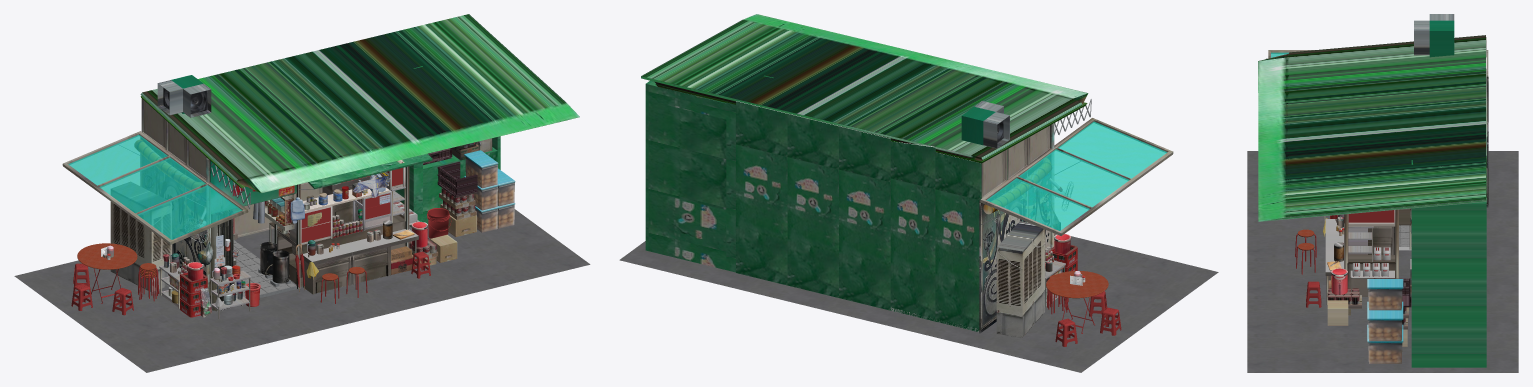
Rendered from hong_kong_food_stall.glb.
The picture shows the model from 3 angles, left to right: view 1: azimuth 30°, elevation 25°; view 2: azimuth 150°, elevation 25°; view 3: azimuth 270°, elevation 25°; orthographic projection. The views are drawn at different scales.
Visible parts, largest first — view 1: _3DGeom715, _3DGeom1, _3DGeom337, _3DGeom551, _3DGeom465, _3DGeom336, _3DGeom137 (×4), _3DGeom718, _3DGeom410, _3DGeom408, _3DGeom321, _3DGeom164 (×2) (+21 smaller); view 2: _3DGeom3 (×5), _3DGeom715, _3DGeom1, _3DGeom718, _3DGeom337, _3DGeom551, _3DGeom465, _3DGeom336, _3DGeom153, _3DGeom149, _3DGeom157, _3DGeom163 (+7 smaller); view 3: _3DGeom715, _3DGeom1, _3DGeom718, _3DGeom137 (×3), _3DGeom756, _3DGeom492, _3DGeom757, _3DGeom547, _3DGeom419, _3DGeom439, _3DGeom418, _3DGeom90 (+10 smaller).
Boxes of the visible parts, left/top/right/bottom form: _3DGeom715: left=140, top=14, right=579, bottom=193; _3DGeom1: left=14, top=209, right=590, bottom=372; _3DGeom337: left=68, top=135, right=242, bottom=239; _3DGeom551: left=110, top=182, right=171, bottom=291; _3DGeom465: left=140, top=137, right=210, bottom=302; _3DGeom336: left=62, top=131, right=248, bottom=244; _3DGeom137 (×4): left=464, top=150, right=515, bottom=232; _3DGeom718: left=395, top=66, right=500, bottom=227; _3DGeom410: left=303, top=244, right=352, bottom=294; _3DGeom408: left=210, top=161, right=297, bottom=213; _3DGeom321: left=77, top=243, right=137, bottom=269; _3DGeom164 (×2): left=166, top=120, right=206, bottom=178; _3DGeom3 (×5): left=736, top=144, right=979, bottom=331; _3DGeom715: left=641, top=14, right=1088, bottom=163; _3DGeom1: left=619, top=236, right=1218, bottom=372; _3DGeom718: left=645, top=75, right=773, bottom=272; _3DGeom337: left=986, top=121, right=1167, bottom=230; _3DGeom551: left=996, top=221, right=1045, bottom=337; _3DGeom465: left=979, top=155, right=1050, bottom=333; _3DGeom336: left=980, top=118, right=1173, bottom=235; _3DGeom153: left=736, top=101, right=787, bottom=156; _3DGeom149: left=787, top=114, right=838, bottom=169; _3DGeom157: left=839, top=126, right=890, bottom=181; _3DGeom163: left=890, top=141, right=935, bottom=188; _3DGeom715: left=1258, top=35, right=1486, bottom=221; _3DGeom1: left=1247, top=151, right=1518, bottom=372; _3DGeom718: left=1411, top=160, right=1486, bottom=367; _3DGeom137 (×3): left=1367, top=279, right=1403, bottom=363; _3DGeom756: left=1429, top=20, right=1454, bottom=57; _3DGeom492: left=1368, top=226, right=1395, bottom=254; _3DGeom757: left=1414, top=20, right=1429, bottom=55; _3DGeom547: left=1327, top=300, right=1348, bottom=325; _3DGeom419: left=1347, top=209, right=1410, bottom=263; _3DGeom439: left=1348, top=210, right=1394, bottom=222; _3DGeom418: left=1347, top=264, right=1395, bottom=296; _3DGeom90: left=1331, top=268, right=1347, bottom=294.
Bounding box in the file's own units: 8.95 × 3.63 × 4.62.
44 materials, 42 textured.
